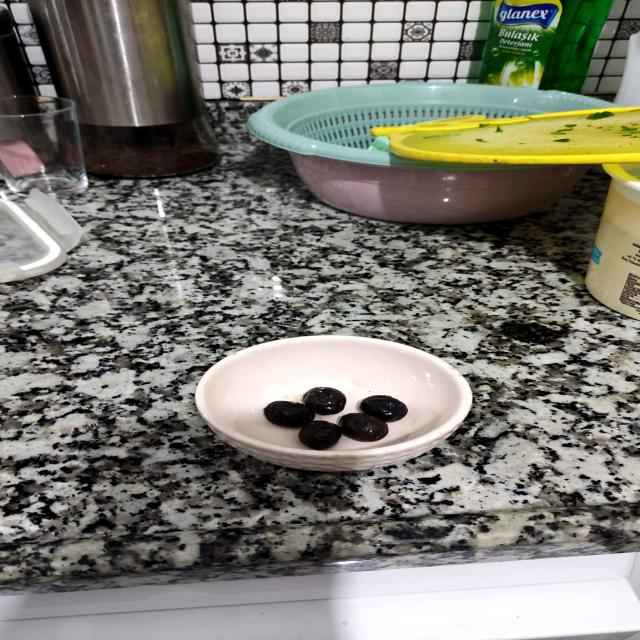olive: (244, 365, 442, 449)
